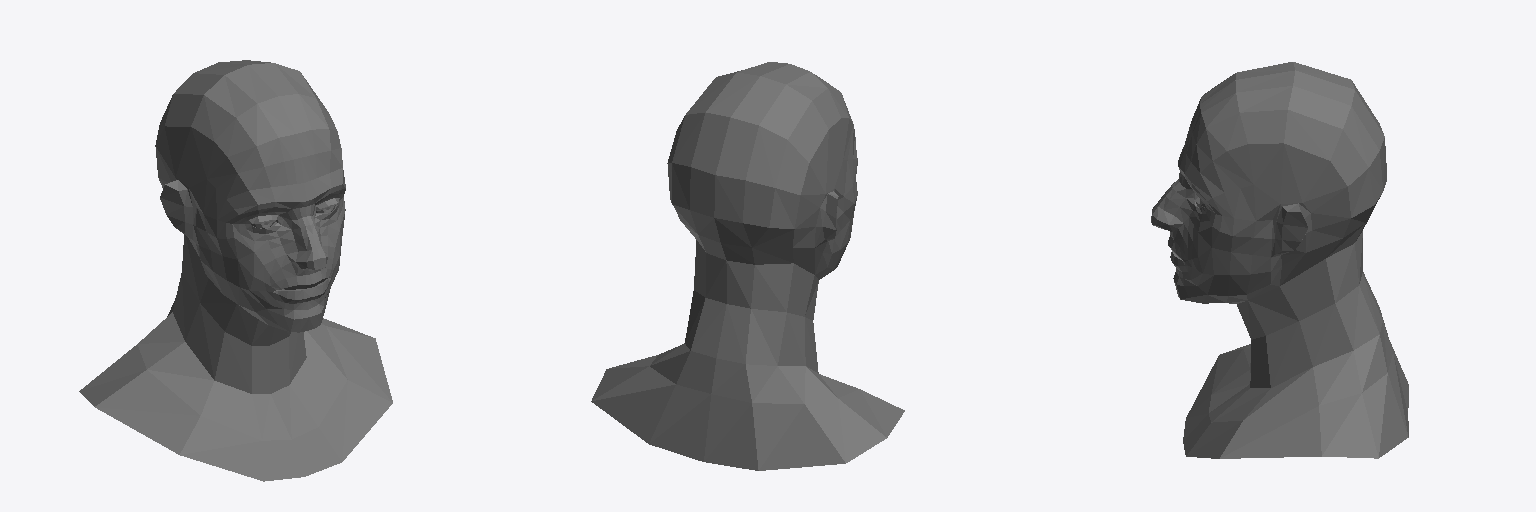
Rendered from head.obj.
3 views of the same model, side by side, from view 1: azimuth 30°, elevation 25°; view 2: azimuth 150°, elevation 25°; view 3: azimuth 270°, elevation 25° (orthographic).
Visible parts, largest first — view 1: polySurface26; view 2: polySurface26; view 3: polySurface26.
Part boxes in pixels (x1,y1,x2,y2): polySurface26: (79, 60, 392, 481); polySurface26: (591, 62, 904, 470); polySurface26: (1151, 62, 1408, 458).
Bounding box in the file's own units: 7.84 × 9.9 × 6.21.